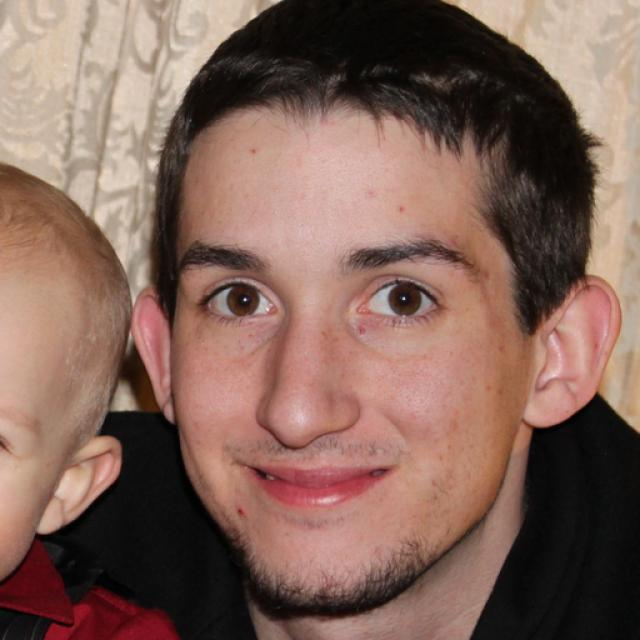Acne: (350, 322, 370, 340), (360, 185, 380, 202), (233, 505, 250, 519), (393, 204, 409, 214)
